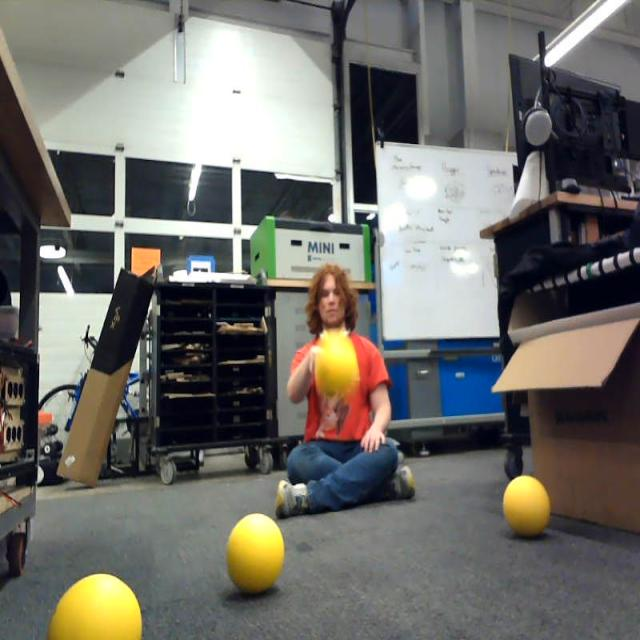Fuel: (45, 573, 142, 640), (226, 513, 284, 595), (503, 476, 550, 539), (317, 332, 359, 396)
